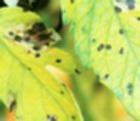Tomato leaf bacterial spot: (0, 8, 86, 121), (64, 0, 140, 121)
